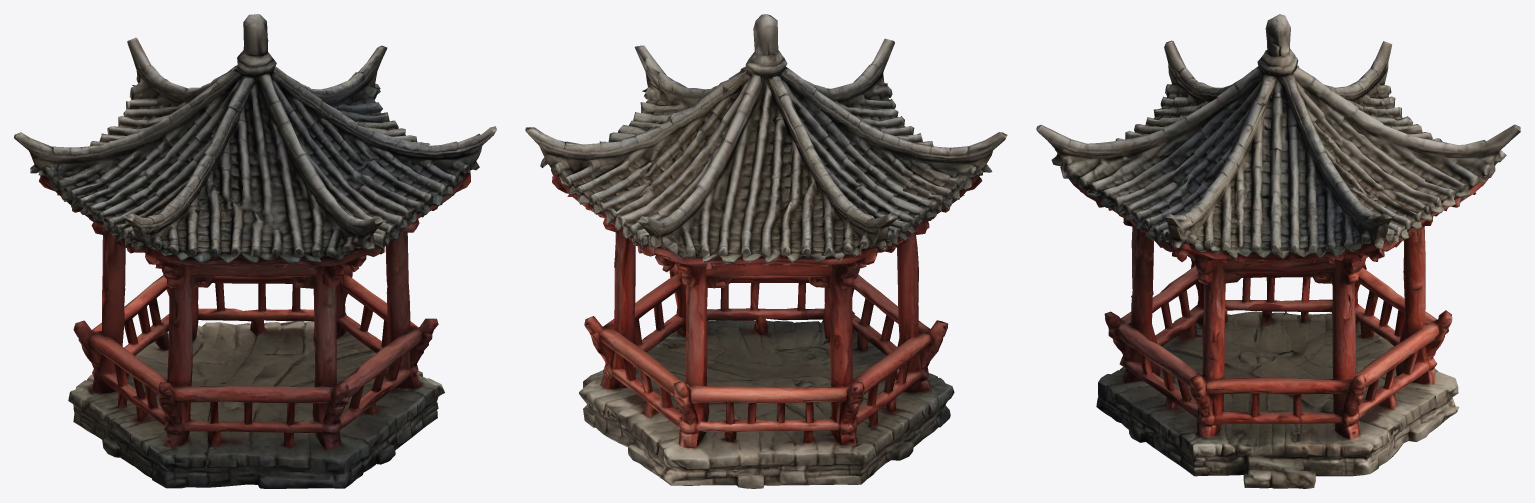
The model's file is pavilion-mid.glb.
The picture shows the model from 3 angles, left to right: view 1: azimuth 30°, elevation 25°; view 2: azimuth 150°, elevation 25°; view 3: azimuth 270°, elevation 25°; orthographic projection. The views are drawn at different scales.
Size of the model in its own units: 0.8645 by 0.8994 by 0.998.
Materials: 1 (1 with a texture image).
